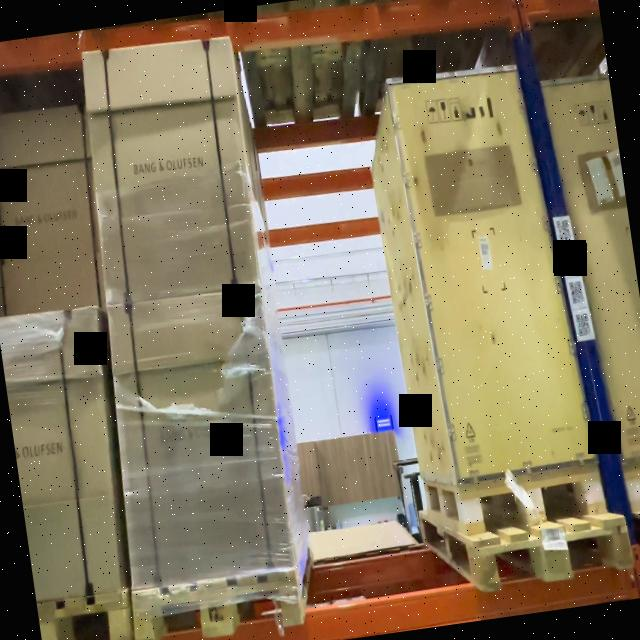box: (387, 66, 596, 483), (106, 283, 292, 589), (82, 37, 261, 305)
